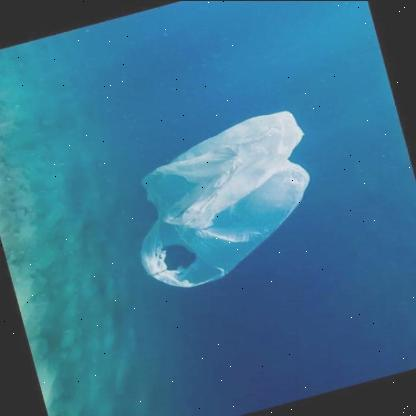Others: (139, 109, 311, 289)
